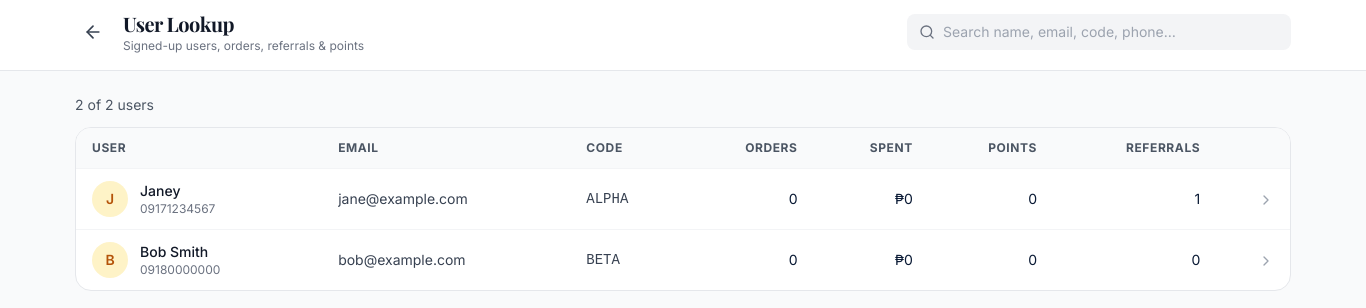
UserLookupManager › filters users by search query (name)
Expected: the text "Janey" is shown, [140,182,180,199]
Type "bob" into the field with placeholder "Search name, email, code, phone…".
click(1111, 32); type("bob")  # box [943,22,1279,42]
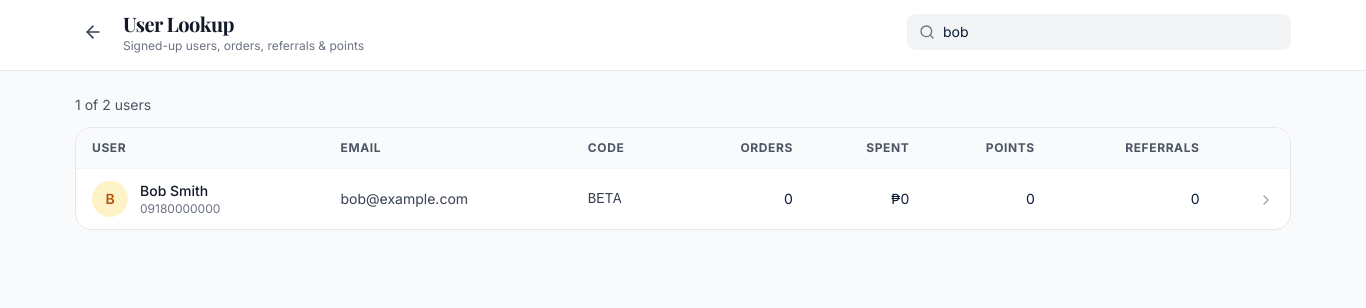
Expected: the text "Bob Smith" is shown, [140,182,208,199]
Expected: the text "1 of 2 users" is shown, [75,96,151,113]
Expected: the text "Janey" is gone
